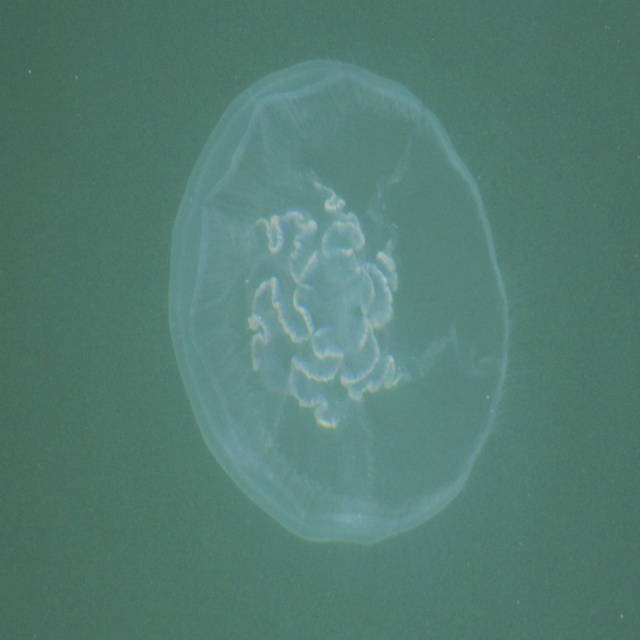Jellyfish: (168, 52, 514, 548)
